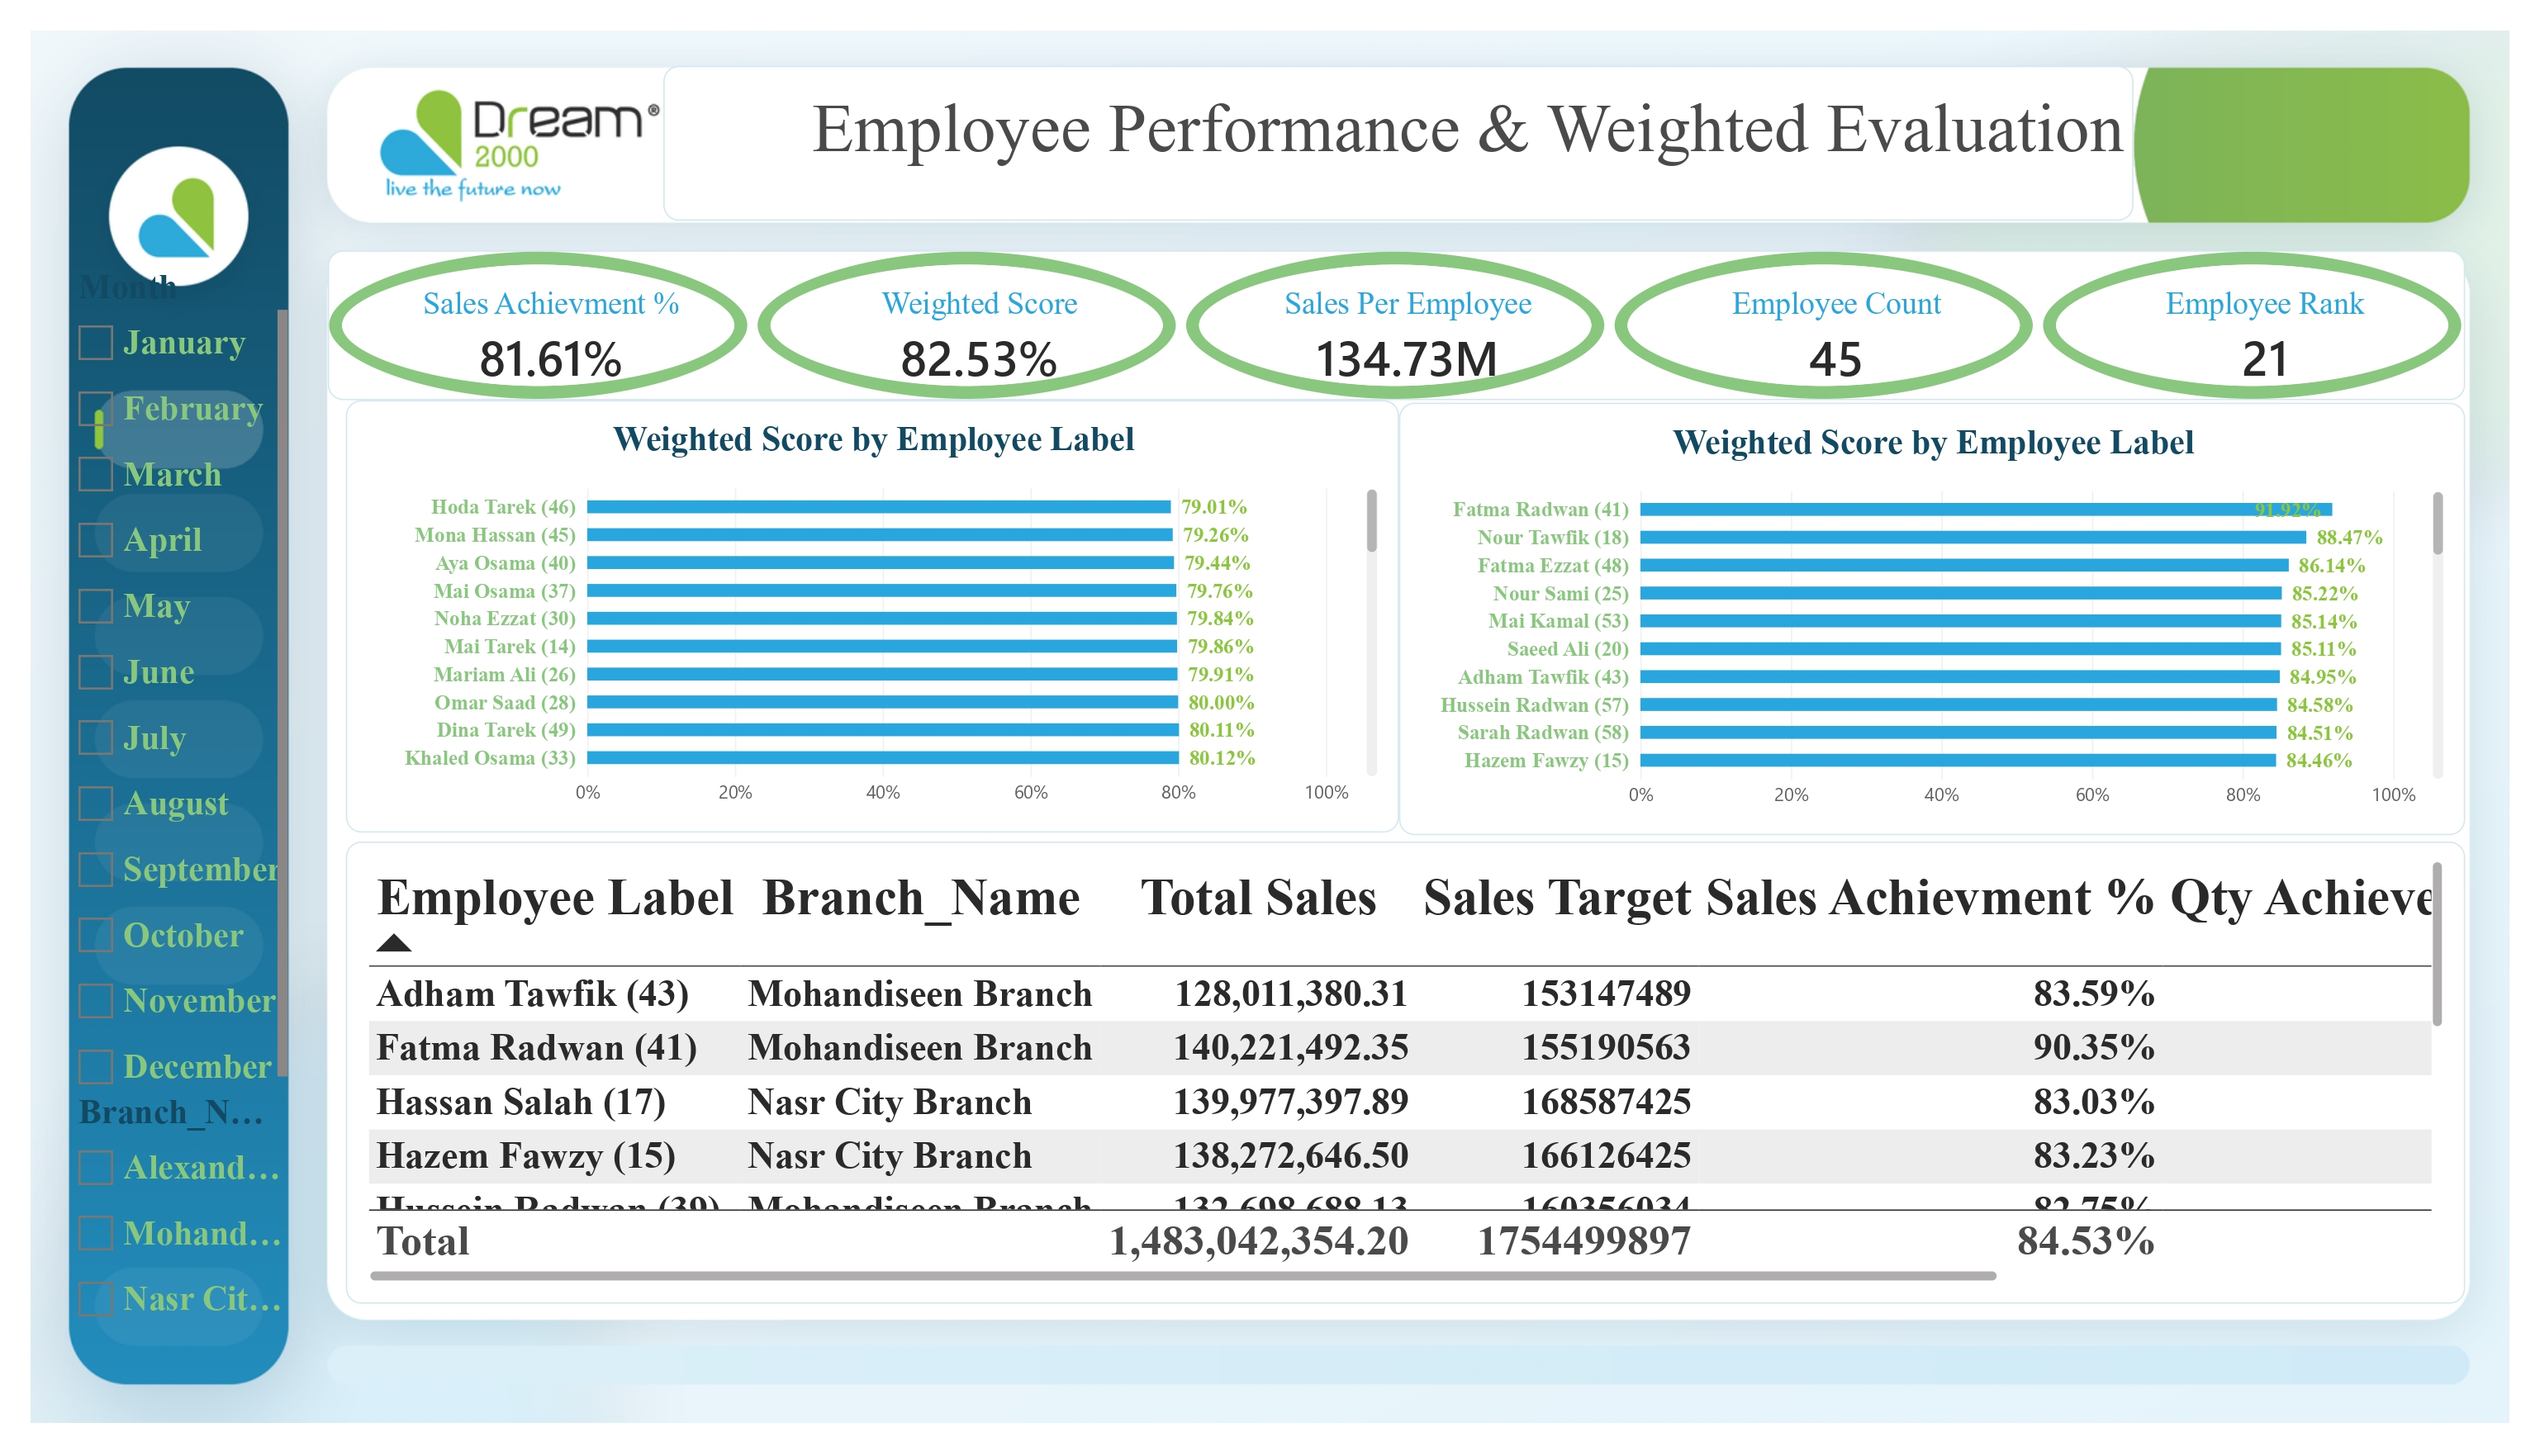

The dashboard page shown, as its layout file describes it:
{"tool":"powerbi","page":{"name":"Employee Performance & Weighted Evaluation","canvas":[1920,1080],"ordinal":3},"visuals":[{"type":"textbox","box":[490.4,27.1,1138.3,119.4],"z":0},{"type":"cardVisual","fields":{"Data":["Table.Sales Achievment %","Table.Weighted Score","Table.Sales Per Employee","Table.Employee Count","Table.Employee Rank"]},"box":[229.8,170.1,1655.8,115.8],"z":1},{"type":"clusteredBarChart","fields":{"Category":["Employees_Table.Employee Label"],"Y":["Table.Weighted Score"]},"box":[1060.5,287.7,825.2,334.8],"z":2},{"type":"clusteredBarChart","fields":{"Category":["Employees_Table.Employee Label"],"Y":["Table.Weighted Score"]},"box":[244.3,285.9,816.2,334.8],"z":3},{"type":"tableEx","fields":{"Values":["Employees_Table.Employee Label","Branches_Table.Branch_Name","Table.Total Sales","Table.Sales Target","Table.Sales Achievment %","Targets_Table.Qty Achievement %","Table.Weighted Score"]},"box":[244.3,628,1641.4,358.3],"z":4},{"type":"slicer","fields":{"Values":["Employees_Table.Date_of_Birth.Variation.Date Hierarchy.Month"]},"box":[29,182.8,170.1,638.8],"z":5},{"type":"slicer","fields":{"Values":["Branches_Table.Branch_Name"]},"box":[29,821.6,170.1,206.3],"z":6}]}

Visuals, with their boxes on the page's 1920x1080 design canvas (x1, y1, x2, y2). These are canvas units, not pixel positions in the 2540x1456 screenshot, which may show the page scaled, cropped or inside an application window:
textbox: {"x1": 490, "y1": 27, "x2": 1629, "y2": 146}
cardVisual - Table.Sales Achievment % x Table.Weighted Score: {"x1": 230, "y1": 170, "x2": 1886, "y2": 286}
clusteredBarChart - Employees_Table.Employee Label x Table.Weighted Score: {"x1": 1060, "y1": 288, "x2": 1886, "y2": 622}
clusteredBarChart - Employees_Table.Employee Label x Table.Weighted Score: {"x1": 244, "y1": 286, "x2": 1060, "y2": 621}
tableEx - Employees_Table.Employee Label x Branches_Table.Branch_Name: {"x1": 244, "y1": 628, "x2": 1886, "y2": 986}
slicer - Employees_Table.Date_of_Birth.Variation.Date Hierarchy.Month: {"x1": 29, "y1": 183, "x2": 199, "y2": 822}
slicer - Branches_Table.Branch_Name: {"x1": 29, "y1": 822, "x2": 199, "y2": 1028}
